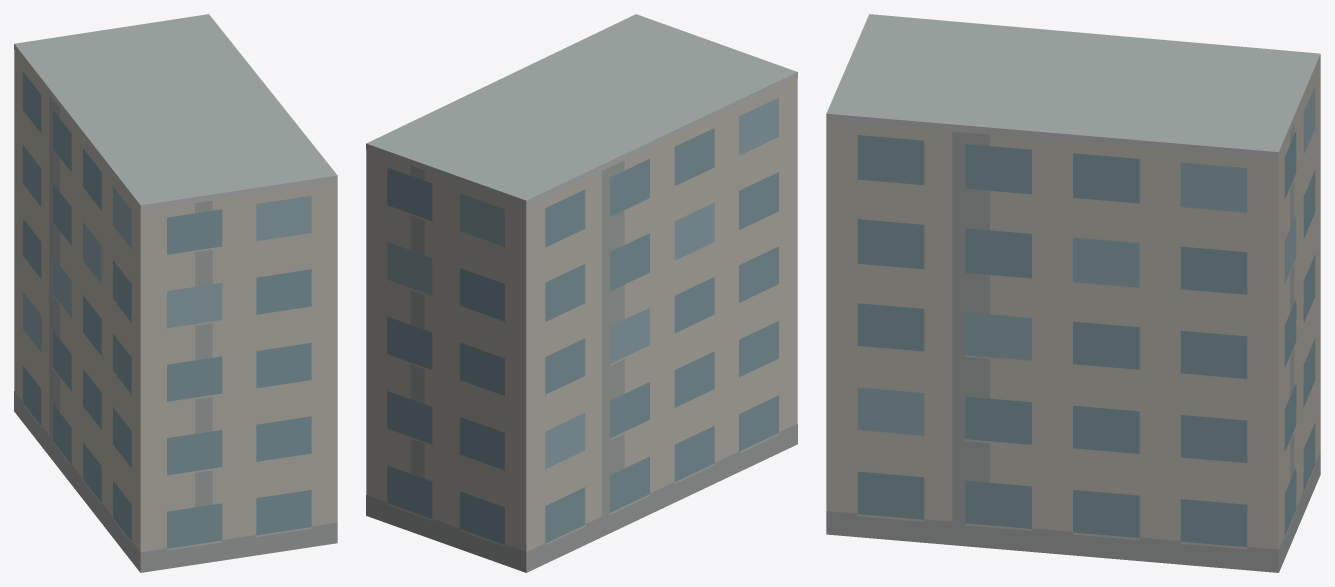
Rendered from survey-upis-32952541.glb.
3 renders of one model, left to right at view 1: azimuth 30°, elevation 25°; view 2: azimuth 150°, elevation 25°; view 3: azimuth 270°, elevation 25°, orthographic. The views are drawn at different scales.
Visible parts, largest first — view 1: survey-upis-32952541.tmp; view 2: survey-upis-32952541.tmp; view 3: survey-upis-32952541.tmp.
Boxes of the visible parts, x1,y1,x2,y2 form: survey-upis-32952541.tmp: (14,14,337,572); survey-upis-32952541.tmp: (366,14,797,572); survey-upis-32952541.tmp: (826,14,1320,572).
Size of the model in its own units: 10.22 by 14.5 by 15.45.
